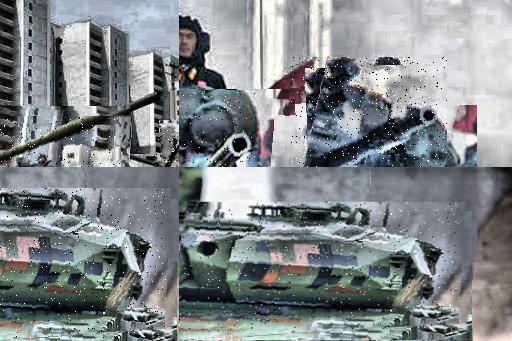tanks: (180, 203, 461, 334), (1, 197, 167, 340), (304, 59, 448, 168), (1, 118, 121, 166), (180, 91, 252, 168), (163, 141, 180, 168)
